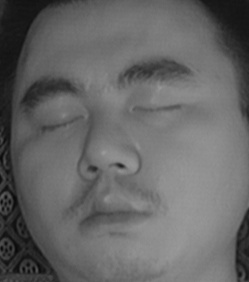blink: (132, 94, 181, 126), (37, 105, 83, 136)
mouth: (67, 186, 157, 240)
